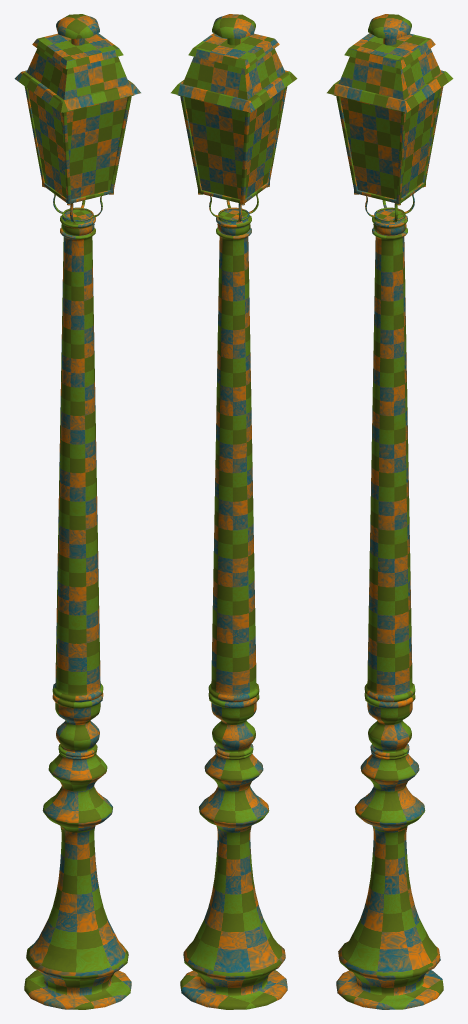
File: StreetLamp.fbx
3 renders of one model, left to right at view 1: azimuth 30°, elevation 25°; view 2: azimuth 150°, elevation 25°; view 3: azimuth 330°, elevation 25°, orthographic.
Visible parts, largest first — view 1: Cylinder004, Box031, Box030, Plane007, Cylinder003, Box029; view 2: Cylinder004, Box031, Box030, Plane007, Cylinder003, Box029; view 3: Cylinder004, Box031, Box030, Plane007, Cylinder003, Box029.
Boxes of the visible parts, x1,y1,x2,y2 form: Cylinder004: [24, 209, 131, 1009]; Box031: [28, 89, 127, 199]; Box030: [14, 33, 140, 112]; Plane007: [24, 86, 131, 203]; Cylinder003: [56, 14, 99, 45]; Box029: [42, 185, 113, 222]; Cylinder004: [180, 209, 287, 1009]; Box031: [184, 89, 283, 199]; Box030: [171, 33, 297, 112]; Plane007: [180, 86, 287, 203]; Cylinder003: [212, 14, 255, 45]; Box029: [198, 185, 269, 222]; Cylinder004: [336, 209, 443, 1009]; Box031: [340, 89, 438, 199]; Box030: [327, 33, 453, 112]; Plane007: [336, 86, 443, 203]; Cylinder003: [368, 14, 411, 45]; Box029: [354, 185, 425, 222].
Size of the model in its own units: 51.08 by 502 by 51.08.
Materials: 1 (1 with a texture image).
